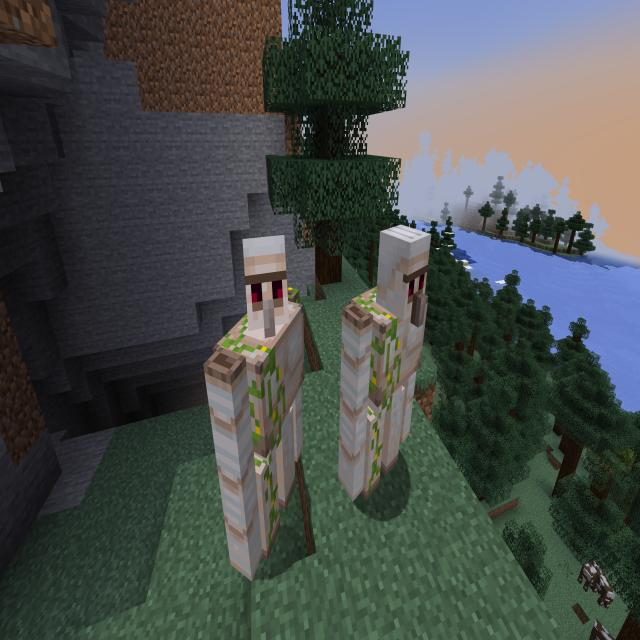Iron Golem: (202, 232, 309, 582), (335, 222, 433, 509)
